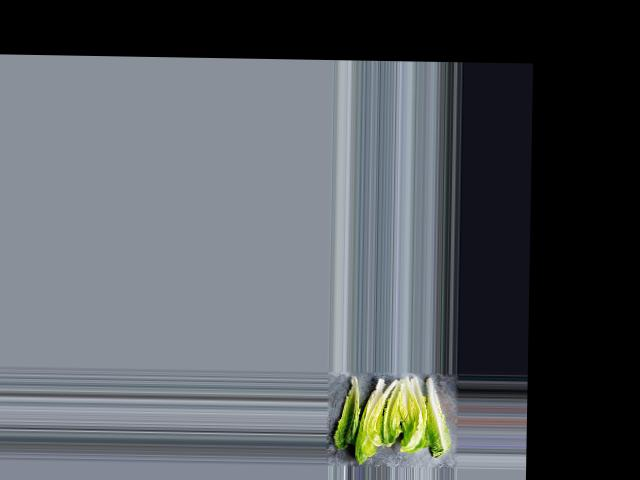lettuce: (336, 373, 362, 449)
